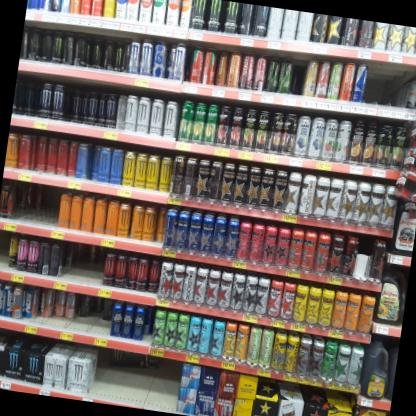empty_space: (132, 373, 174, 413), (96, 367, 131, 407), (32, 189, 59, 230), (68, 265, 102, 288), (392, 66, 409, 109), (366, 65, 382, 108), (379, 67, 395, 109), (0, 240, 9, 272)
